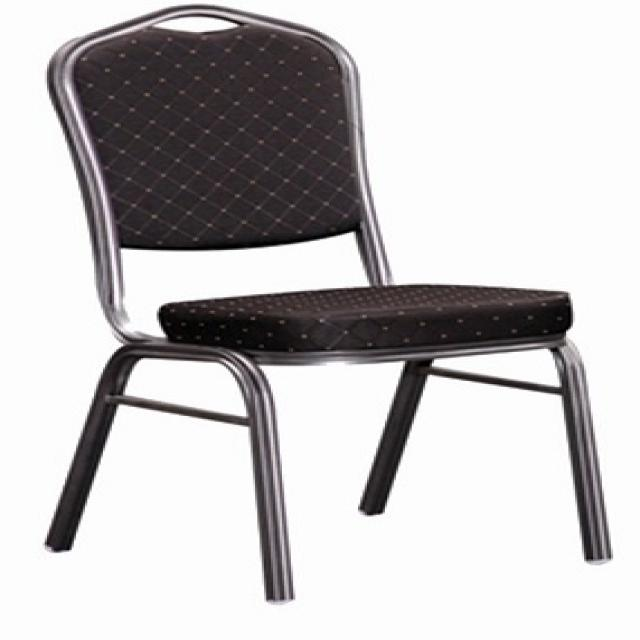Chair: (18, 1, 624, 605)
